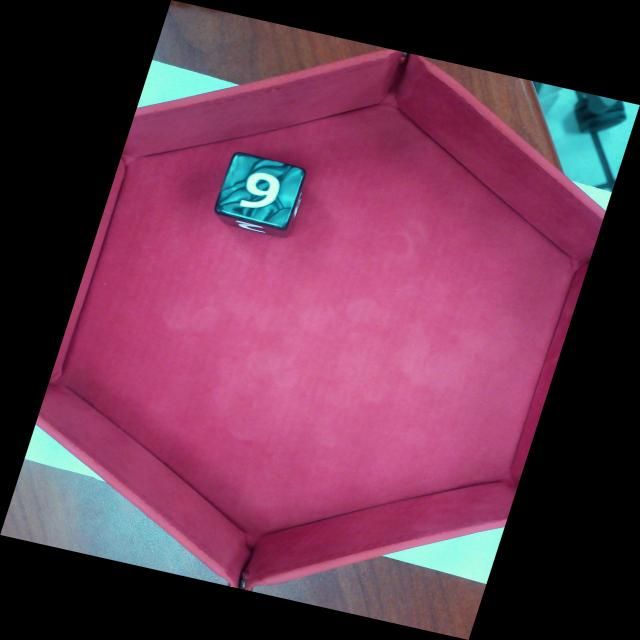dice: (211, 149, 309, 233)
